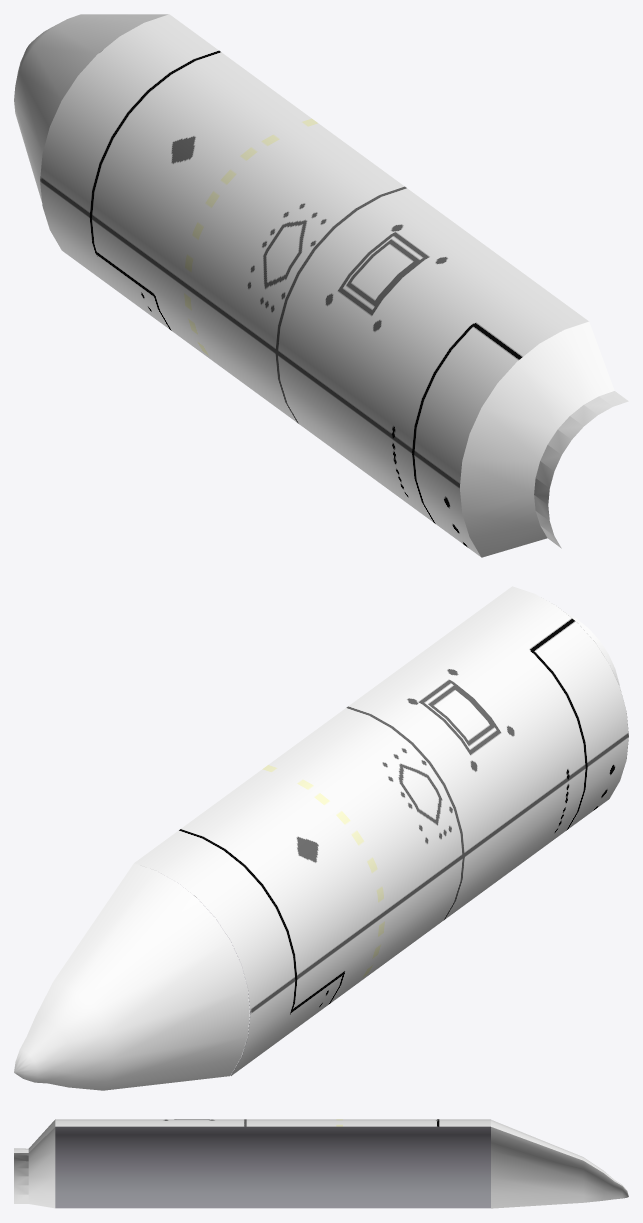
File: fairing612b.obj
3 renders of one model, top to bottom at view 1: azimuth 30°, elevation 25°; view 2: azimuth 150°, elevation 25°; view 3: azimuth 270°, elevation 25°, orthographic. The views are drawn at different scales.
Parts seen in each view (by area): view 1: group1; view 2: group1; view 3: group0, group1.
Part boxes in pixels (box(x1,y1,x2,y2)): group1: box(14, 14, 628, 557); group1: box(14, 586, 628, 1090); group0: box(14, 1126, 628, 1208); group1: box(14, 1119, 627, 1190).
Size of the model in its own units: 2.51 by 3.89 by 19.87.
2 materials, 2 textured.
